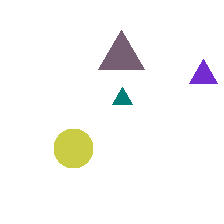circle: (54, 129, 92, 167)
triangle: (98, 30, 144, 69), (189, 59, 217, 83), (112, 87, 132, 104)
